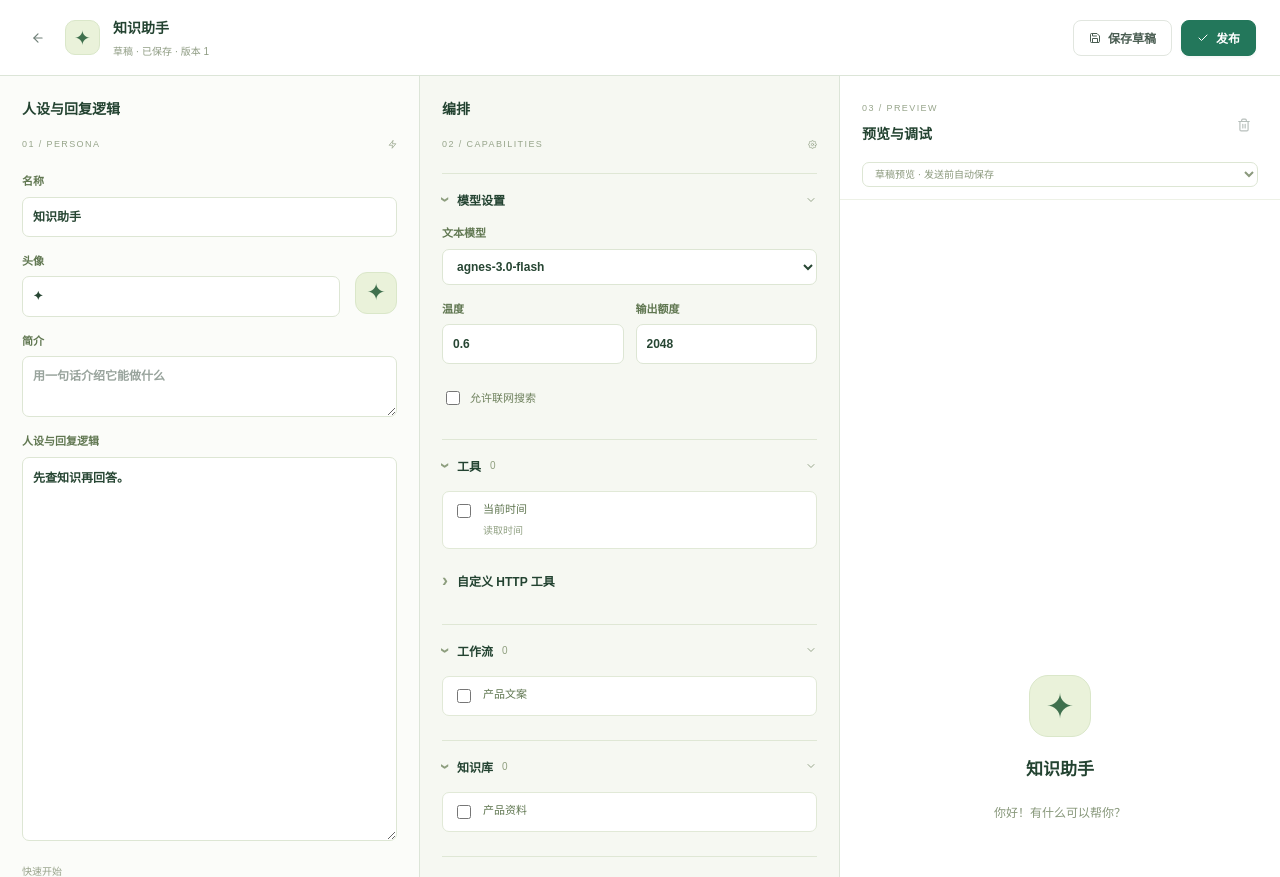
it: 版本冲突保留当前编辑内容，且不会假称保存成功
Replace the text in the field named "智能体名称" with "未保存的新名字": (210, 217) [22,196,397,237]
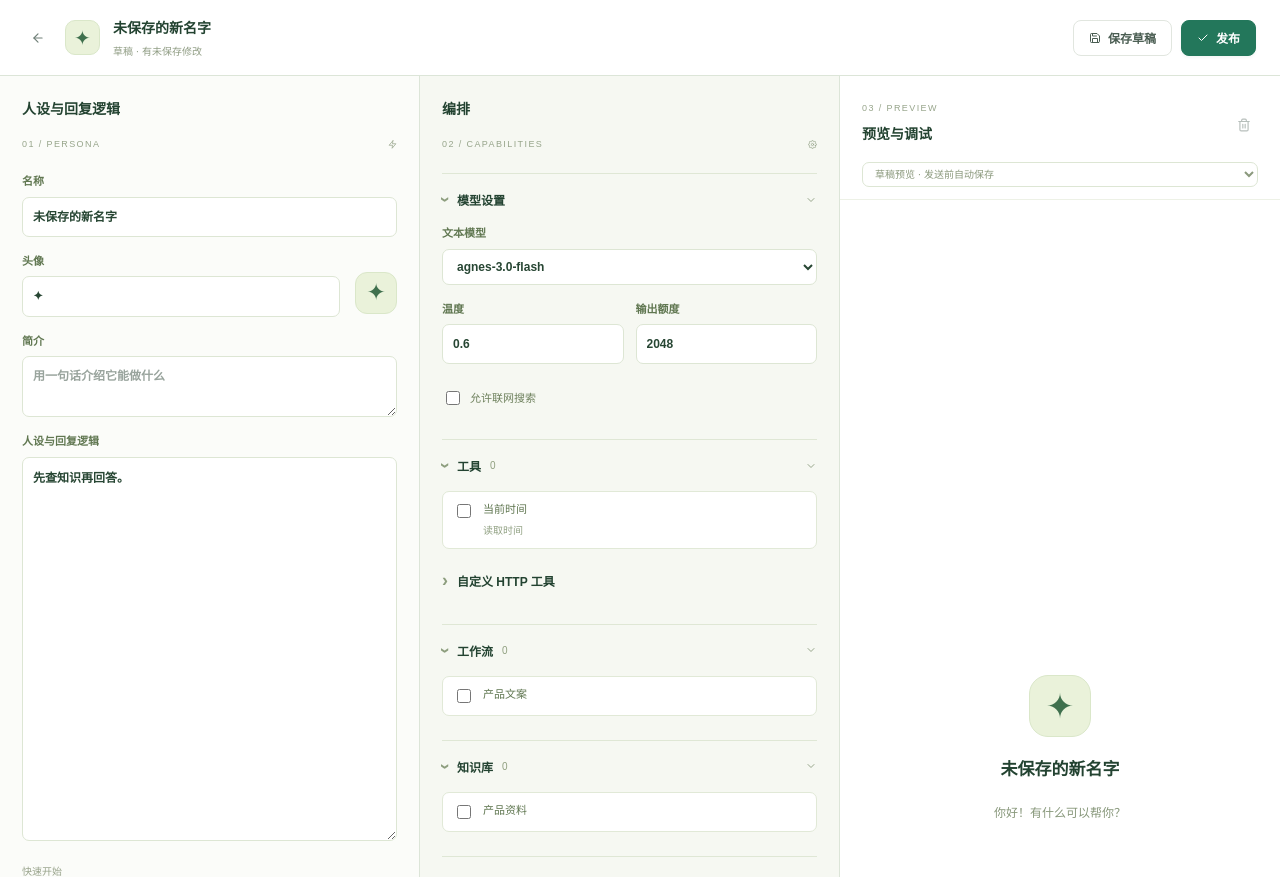
Click the button "保存草稿": (1122, 38) [1073,20,1172,56]
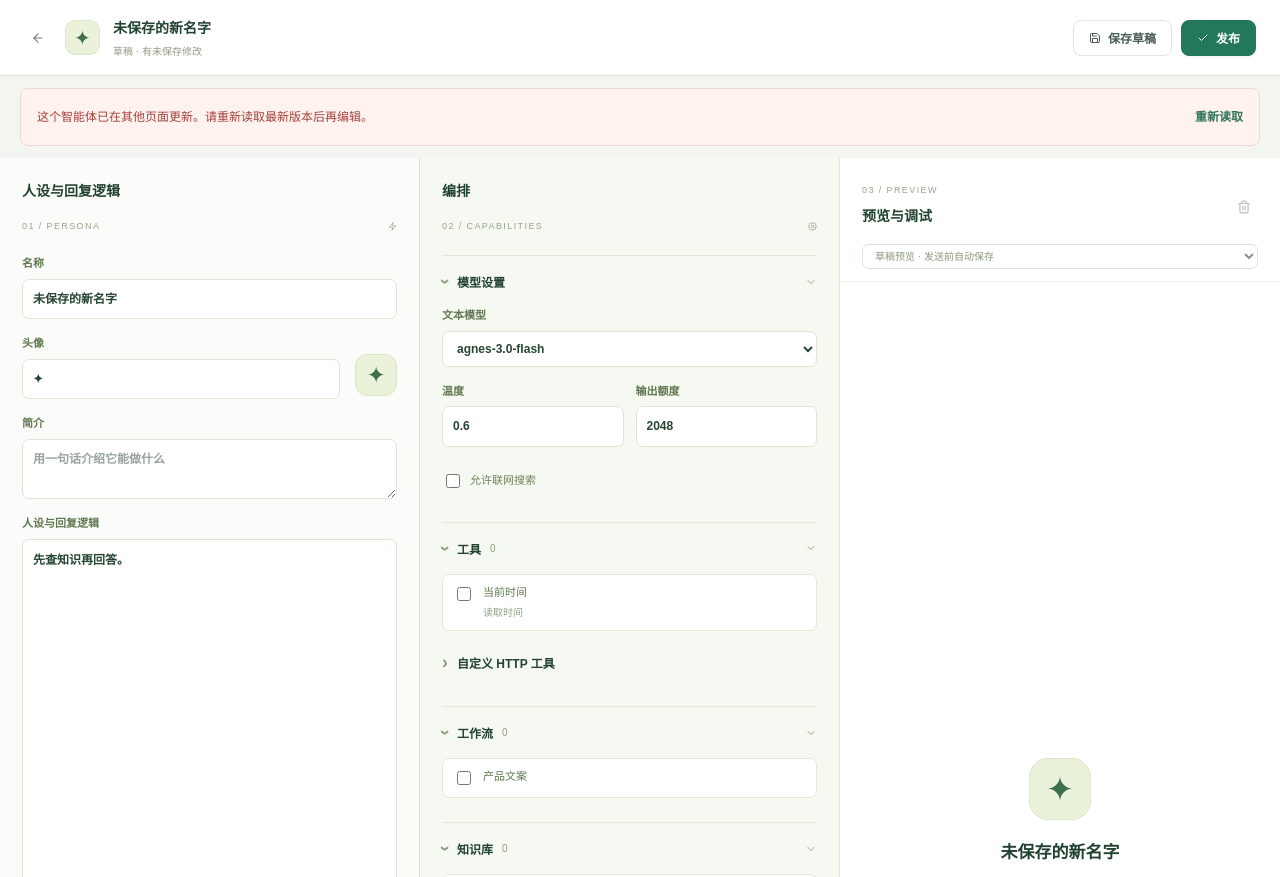
Now the message shows "已在其他页面更新", box [37,110,373,124]
